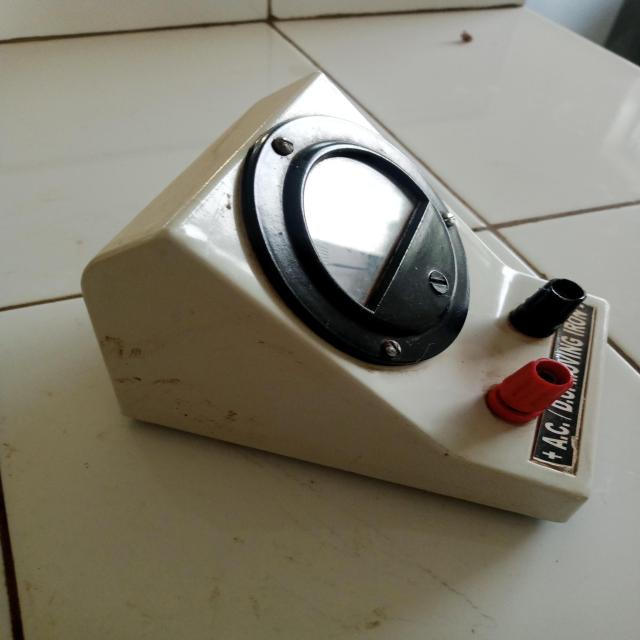Ammeter Analog: (62, 64, 629, 518)
